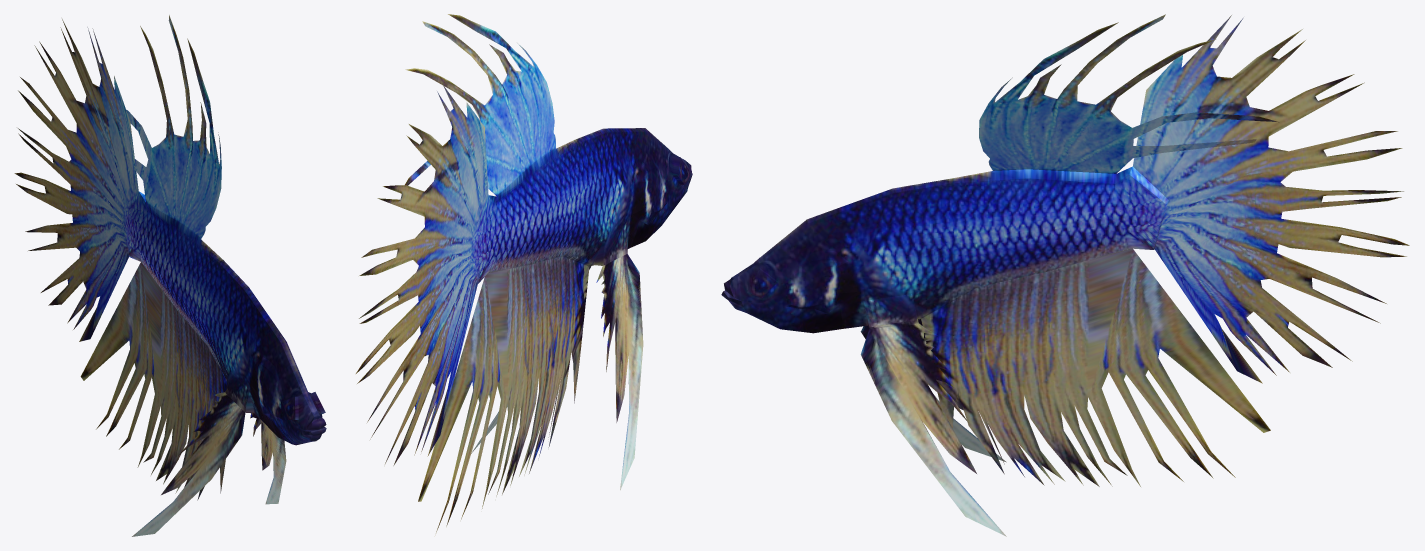
File: flamboyfish.fbx
3 views of the same model, side by side, from view 1: azimuth 30°, elevation 25°; view 2: azimuth 150°, elevation 25°; view 3: azimuth 270°, elevation 25° (orthographic). The views are drawn at different scales.
Parts seen in each view (by area): view 1: tropicalFishMaya2008:flamboyantfish; view 2: tropicalFishMaya2008:flamboyantfish; view 3: tropicalFishMaya2008:flamboyantfish.
Boxes of the visible parts, box(x1,y1,x2,y2) form: tropicalFishMaya2008:flamboyantfish: box(14, 15, 326, 536); tropicalFishMaya2008:flamboyantfish: box(356, 14, 692, 532); tropicalFishMaya2008:flamboyantfish: box(721, 14, 1409, 536).
Bounding box in the file's own units: 6.24 × 19.86 × 24.42.
